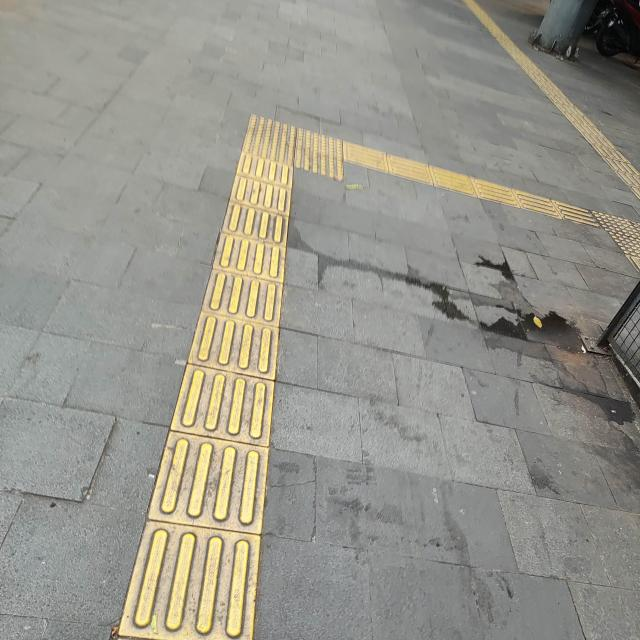kanan: (210, 89, 443, 215)
